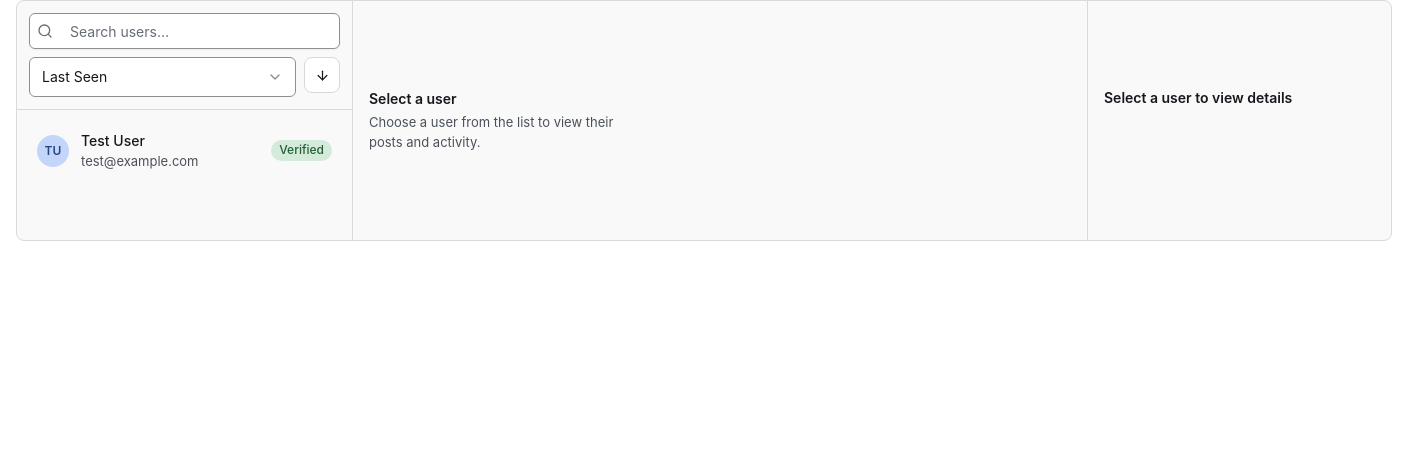
it: /admin/users stats panel › retries the detail request and replaces '-' with real counts
The image size is (1409, 458).
Step 1. Click the text "Test User" → point(113, 140), box [81, 132, 145, 149]
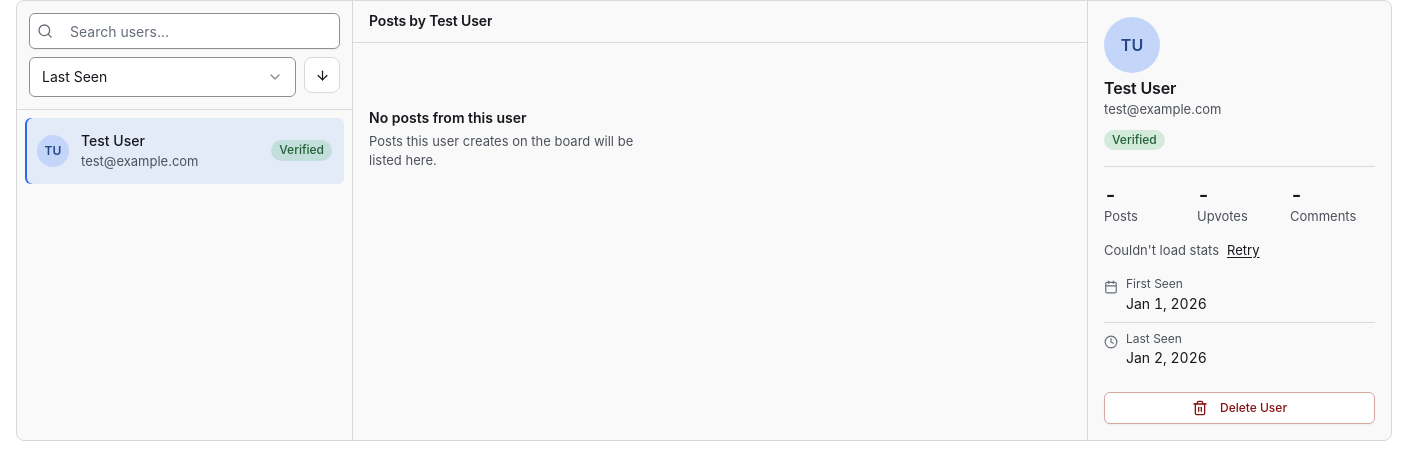
Result: the heading "Posts by Test User" is shown at [369, 13, 492, 30]
Result: the text "Couldn't load stats" is shown at [1104, 241, 1219, 260]
Step 2. Click the button "Retry" → point(1243, 250), box [1227, 241, 1259, 260]
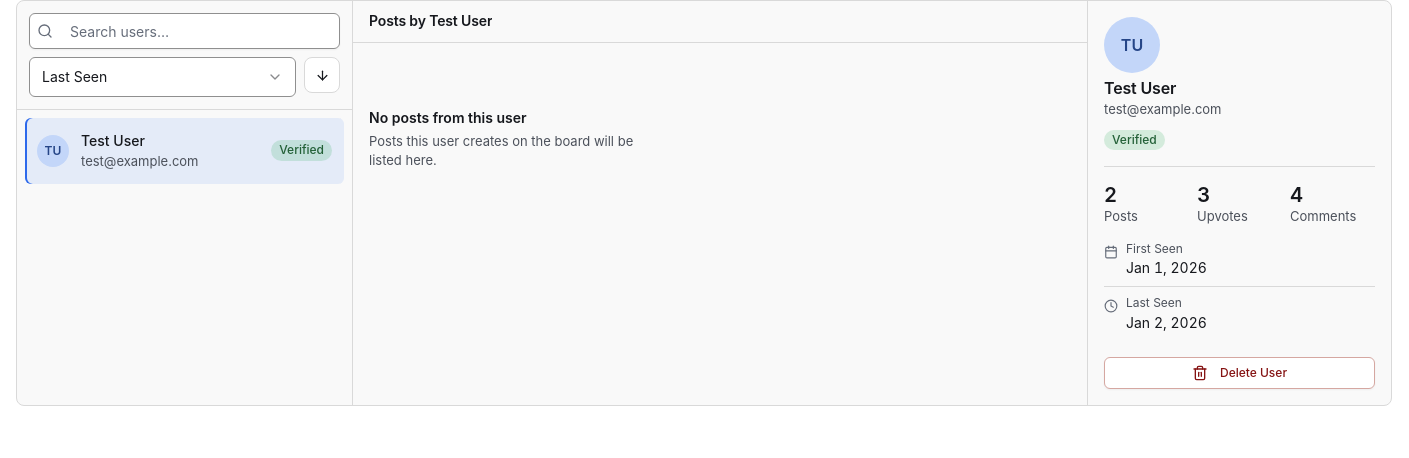
Result: the text "Couldn't load stats" is gone
